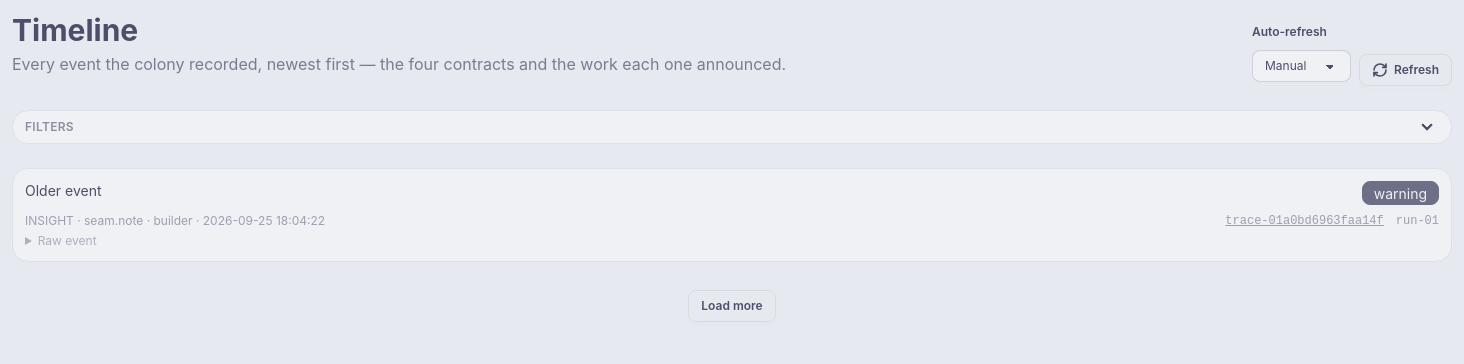
timeline route › appends the next page rather than replacing the feed
Step 1. Click the button "Load more" → (732, 306), box [688, 290, 776, 322]
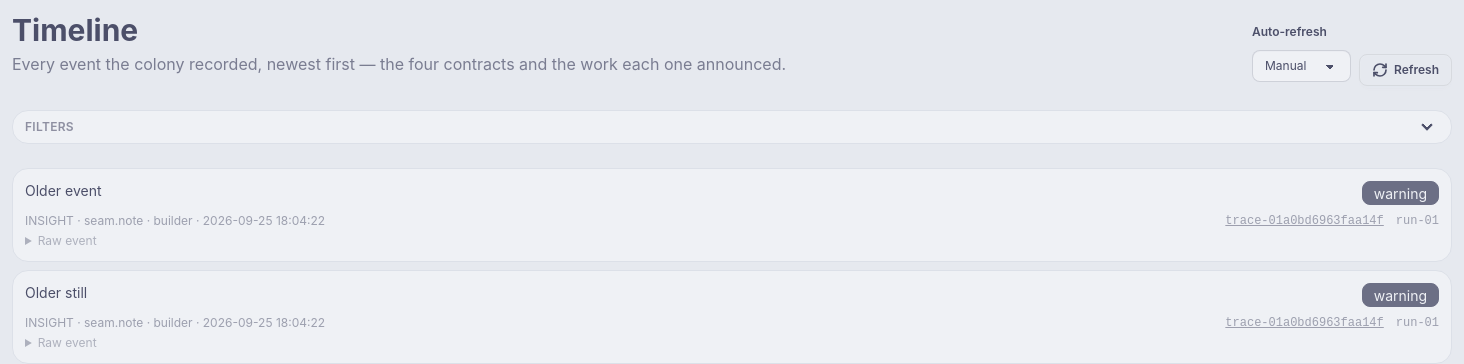
Expected: the text "Older event" is shown, [25, 181, 102, 201]
Expected: the text "Older still" is shown, [25, 283, 87, 303]
Expected: the button "Load more" is gone
